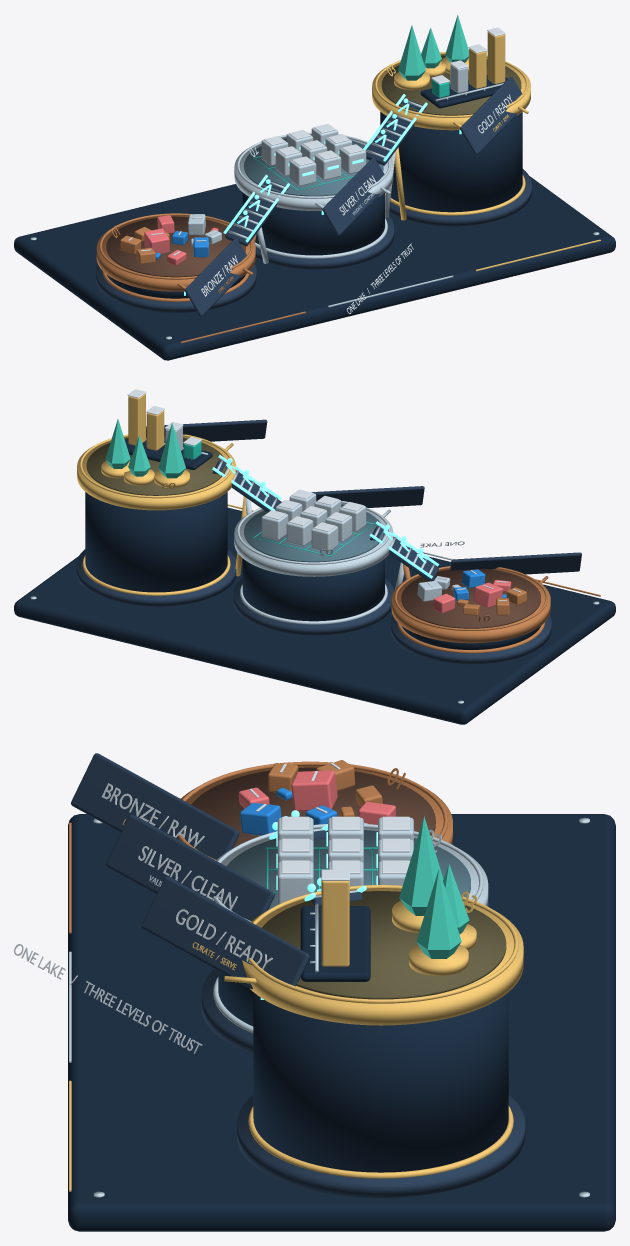
The model's file is 03-medallion.glb.
3 views of the same model, one above another, from view 1: azimuth 30°, elevation 25°; view 2: azimuth 150°, elevation 25°; view 3: azimuth 270°, elevation 25° (orthographic). The views are drawn at different scales.
Parts seen in each view (by area): view 1: Medallion architecture exhibition plinth, gold rising drum, silver rising drum, bronze inset working terrace, gold floating legend plaque, silver floating legend plaque, bronze floating legend plaque, silver inset working terrace, bronze metallic crown, bronze circular foundation, gold circular foundation, gold inset working terrace (+21 smaller); view 2: Medallion architecture exhibition plinth, gold rising drum, silver rising drum, bronze inset working terrace, silver inset working terrace, bronze metallic crown, gold metallic crown, silver metallic crown, gold inset working terrace, gold circular foundation, silver circular foundation, bronze circular foundation (+22 smaller); view 3: Medallion architecture exhibition plinth, gold rising drum, gold inset working terrace, gold floating legend plaque, gold metallic crown, gold circular foundation, silver floating legend plaque, bronze floating legend plaque, bronze inset working terrace, silver inset working terrace, gold miniature chart tray, gold ready information chart bar 3 (+21 smaller).
Boxes of the visible parts, <box> form: Medallion architecture exhibition plinth: <box>14,176,615,360</box>; gold rising drum: <box>380,112,522,212</box>; silver rising drum: <box>242,192,384,255</box>; bronze inset working terrace: <box>106,216,245,277</box>; gold floating legend plaque: <box>460,77,522,154</box>; silver floating legend plaque: <box>322,157,384,235</box>; bronze floating legend plaque: <box>184,238,246,316</box>; silver inset working terrace: <box>244,138,383,196</box>; bronze metallic crown: <box>96,216,255,291</box>; bronze circular foundation: <box>96,264,256,312</box>; gold circular foundation: <box>389,169,531,226</box>; gold inset working terrace: <box>381,55,521,115</box>; Medallion architecture exhibition plinth: <box>14,507,615,724</box>; gold rising drum: <box>85,492,227,592</box>; silver rising drum: <box>242,558,384,621</box>; bronze inset working terrace: <box>401,568,540,628</box>; silver inset working terrace: <box>244,504,383,562</box>; bronze metallic crown: <box>391,568,550,643</box>; gold metallic crown: <box>77,436,235,510</box>; silver metallic crown: <box>234,503,393,576</box>; gold inset working terrace: <box>86,436,226,495</box>; gold circular foundation: <box>76,549,236,606</box>; silver circular foundation: <box>233,578,393,635</box>; bronze circular foundation: <box>391,615,551,664</box>; Medallion architecture exhibition plinth: <box>68,814,615,1231</box>; gold rising drum: <box>253,992,508,1172</box>; gold inset working terrace: <box>262,891,506,999</box>; gold floating legend plaque: <box>141,876,309,989</box>; gold metallic crown: <box>242,889,523,1025</box>; gold circular foundation: <box>237,1095,525,1197</box>; silver floating legend plaque: <box>106,815,274,921</box>; bronze floating legend plaque: <box>71,753,239,859</box>; bronze inset working terrace: <box>191,767,435,848</box>; silver inset working terrace: <box>226,830,470,909</box>; gold miniature chart tray: <box>300,906,370,981</box>; gold ready information chart bar 3: <box>321,881,349,966</box>.
Bounding box in the file's own units: 12 × 4.6 × 7.69.
